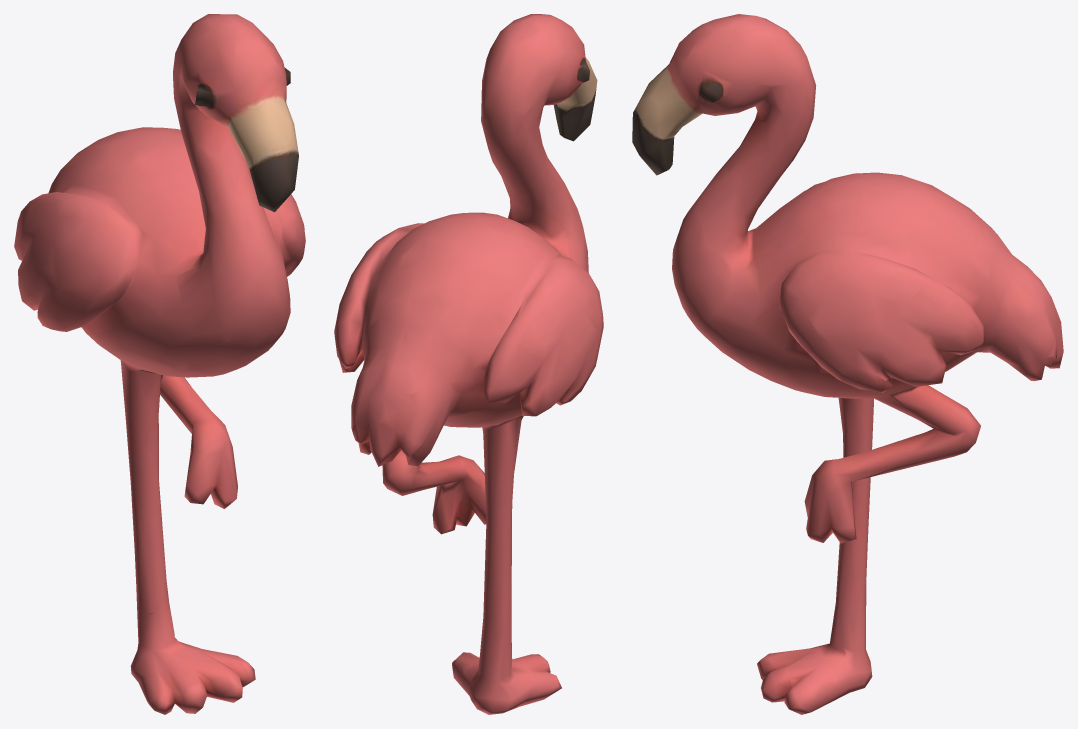
File: f-flamingo.glb
3 renders of one model, left to right at view 1: azimuth 30°, elevation 25°; view 2: azimuth 150°, elevation 25°; view 3: azimuth 270°, elevation 25°, orthographic. The views are drawn at different scales.
Visible parts, largest first — view 1: tripo_node_63d5d40a-f4cd-411e-a6cb-e0f95883deed; view 2: tripo_node_63d5d40a-f4cd-411e-a6cb-e0f95883deed; view 3: tripo_node_63d5d40a-f4cd-411e-a6cb-e0f95883deed.
Part boxes in pixels (x1=…): tripo_node_63d5d40a-f4cd-411e-a6cb-e0f95883deed: x1=14, y1=14, x2=305, y2=714; tripo_node_63d5d40a-f4cd-411e-a6cb-e0f95883deed: x1=334, y1=14, x2=603, y2=714; tripo_node_63d5d40a-f4cd-411e-a6cb-e0f95883deed: x1=632, y1=14, x2=1063, y2=714.
Size of the model in its own units: 0.3704 by 1 by 0.5798.
1 material, 1 textured.
